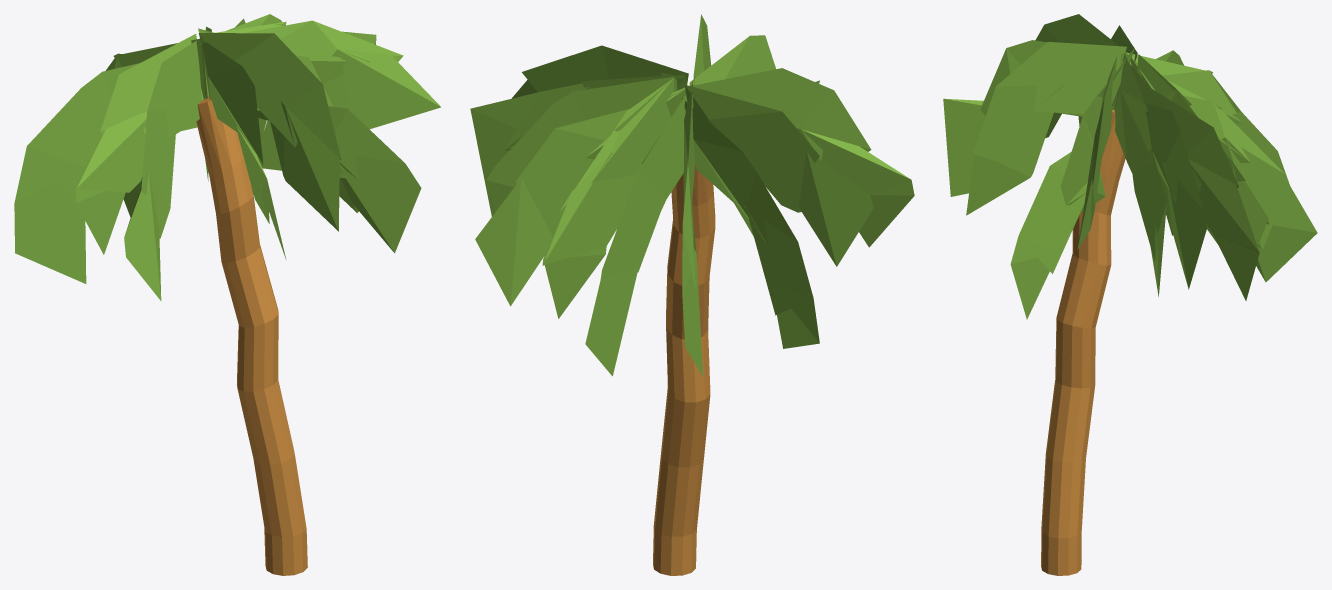
The picture shows the model from 3 angles, left to right: view 1: azimuth 30°, elevation 25°; view 2: azimuth 150°, elevation 25°; view 3: azimuth 270°, elevation 25°; orthographic projection. The views are drawn at different scales.
Visible parts, largest first — view 1: mesh_551291561, group_2033907984, group_199317501, group_137293426, group_1563798512, group_303723010, group_1744041653, group_1112982328, group_1114674819; view 2: mesh_551291561, group_303723010, group_761979314, group_1221962360, group_1563798512, group_2033907984, group_2100156615, group_167516316, group_1559828347, group_137293426, group_1114674819, group_1112982328 (+1 smaller); view 3: mesh_551291561, group_199317501, group_1744041653, group_2100156615, group_761979314, group_167516316, group_1559828347, group_1112982328, group_1114674819, group_1221962360, group_137293426, group_1563798512.
Boxes of the visible parts, <box> form: mesh_551291561: <box>196,95,307,575</box>; group_2033907984: <box>14,63,197,283</box>; group_199317501: <box>198,33,341,231</box>; group_137293426: <box>244,20,440,129</box>; group_1563798512: <box>124,41,201,300</box>; group_303723010: <box>76,34,205,254</box>; group_1744041653: <box>198,28,421,253</box>; group_1112982328: <box>202,42,286,259</box>; group_1114674819: <box>105,38,205,99</box>; mesh_551291561: <box>653,164,715,575</box>; group_303723010: <box>685,85,873,266</box>; group_761979314: <box>475,84,692,306</box>; group_1221962360: <box>542,78,674,318</box>; group_1563798512: <box>691,68,914,247</box>; group_2033907984: <box>682,98,819,348</box>; group_2100156615: <box>585,94,687,376</box>; group_167516316: <box>486,76,677,211</box>; group_1559828347: <box>470,74,685,216</box>; group_137293426: <box>512,45,688,98</box>; group_1114674819: <box>682,81,703,376</box>; group_1112982328: <box>689,35,819,85</box>; mesh_551291561: <box>1041,109,1125,575</box>; group_199317501: <box>966,42,1126,215</box>; group_1744041653: <box>1010,48,1134,319</box>; group_2100156615: <box>1130,61,1317,282</box>; group_761979314: <box>1129,54,1259,300</box>; group_167516316: <box>1129,63,1206,289</box>; group_1559828347: <box>1114,53,1166,296</box>; group_1112982328: <box>943,40,1128,196</box>; group_1114674819: <box>1125,52,1289,184</box>; group_1221962360: <box>1137,54,1269,246</box>; group_137293426: <box>1077,56,1116,249</box>; group_1563798512: <box>1035,14,1127,137</box>.
Bounding box in the file's own units: 79.66 × 112 × 73.18.
